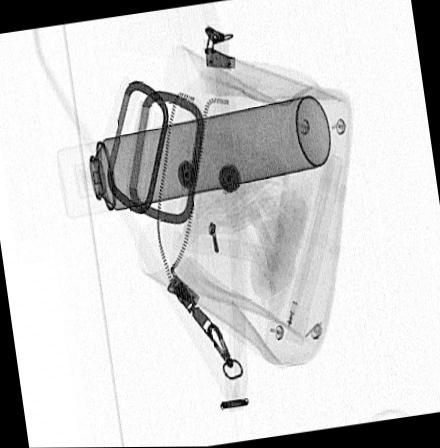Sprayer: (54, 93, 333, 219)
